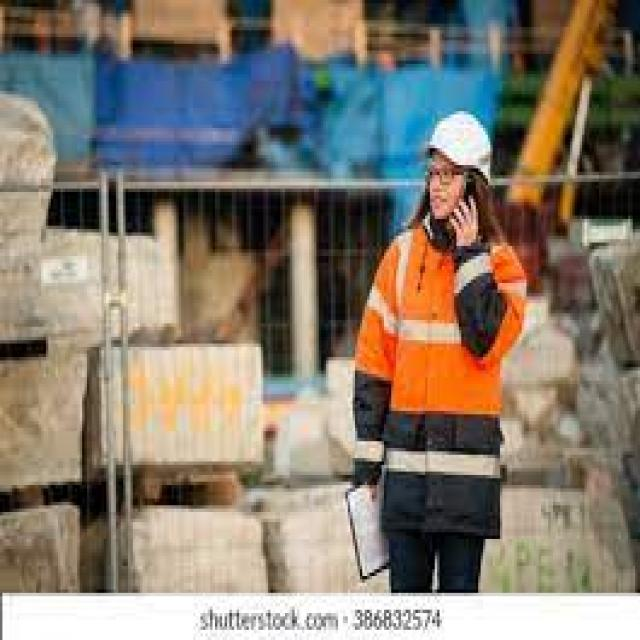Reflective-Jacket: (348, 216, 531, 458)
Safety-Helmet: (418, 101, 505, 195)
